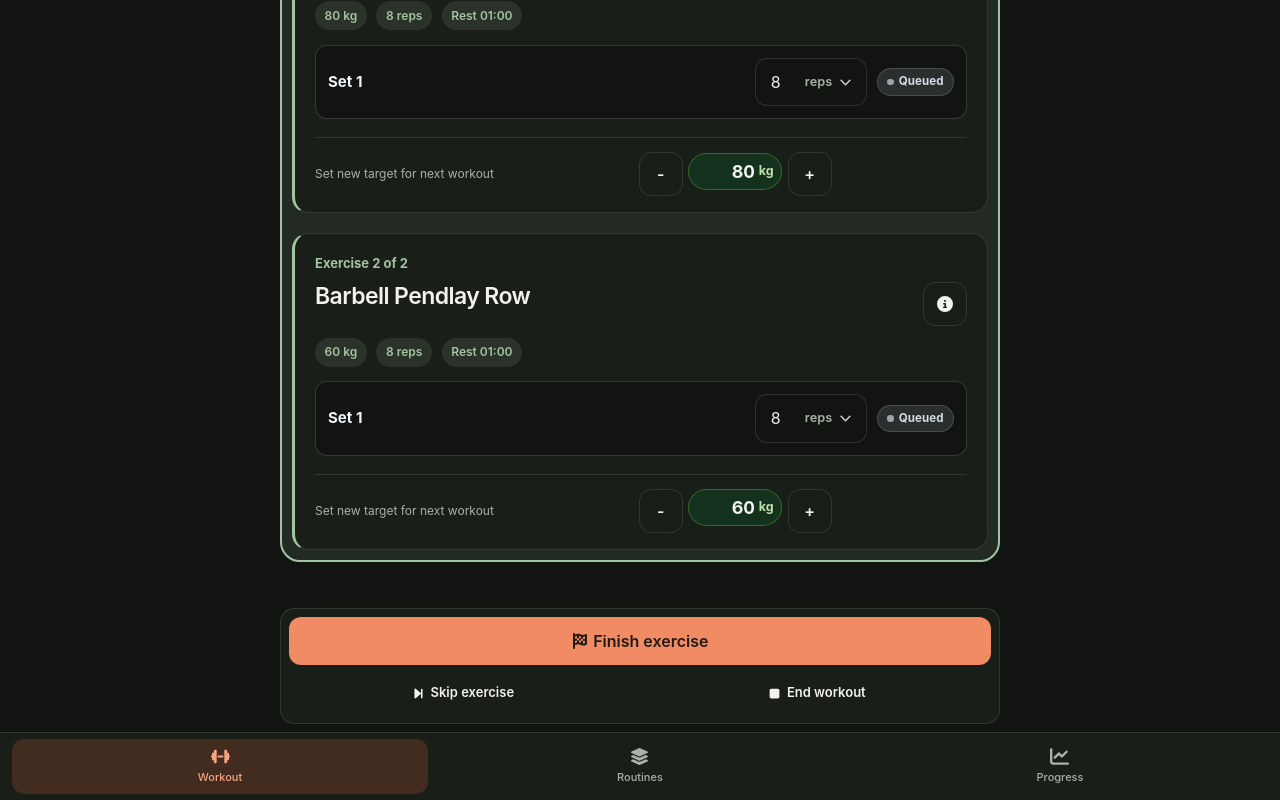
Test: App UI flows › moves to the exercise after a superset when both superset exercises are done
(page scrolled)
Click the button with aria-label "Toggle set 1 for Pendlay Row" at (916, 418), box [315,381,967,456]
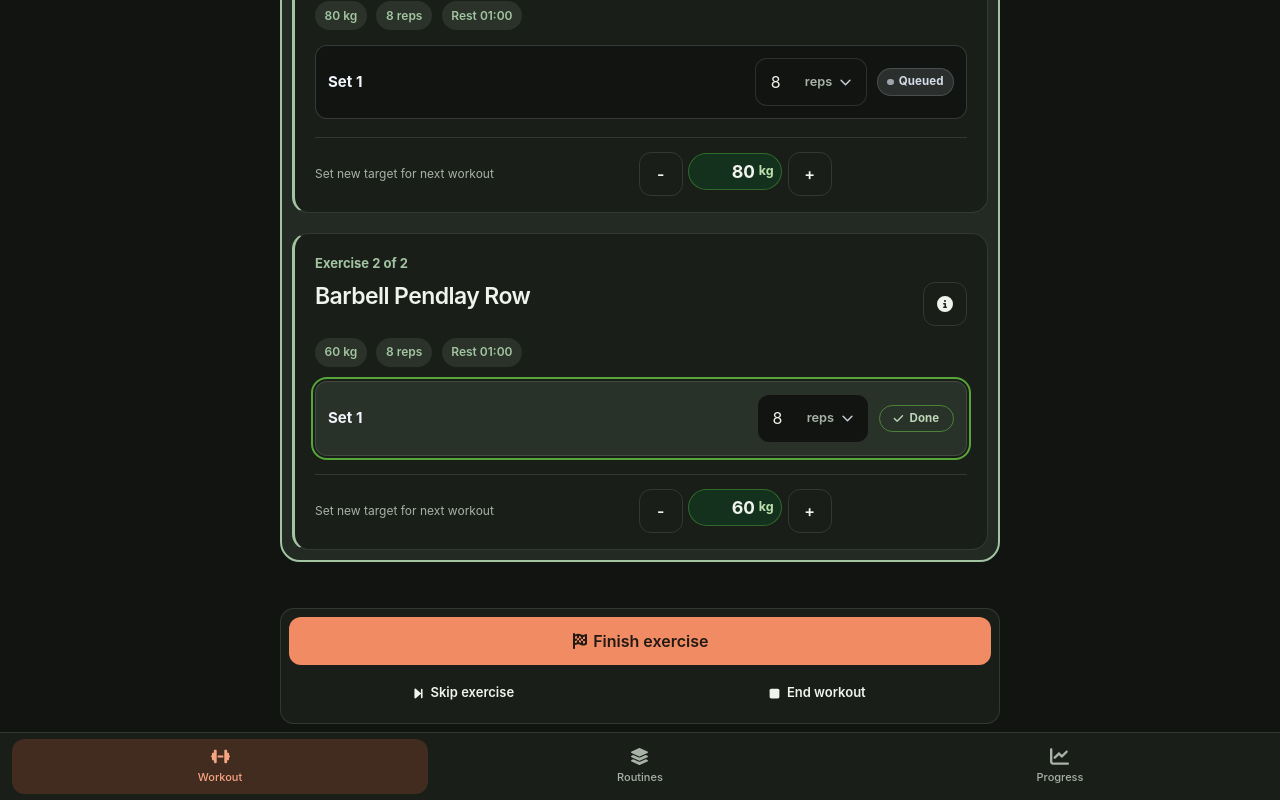
Click the button with aria-label "Toggle set 1 for Bench Press" at (916, 82), box [315,45,967,119]
(page scrolled)
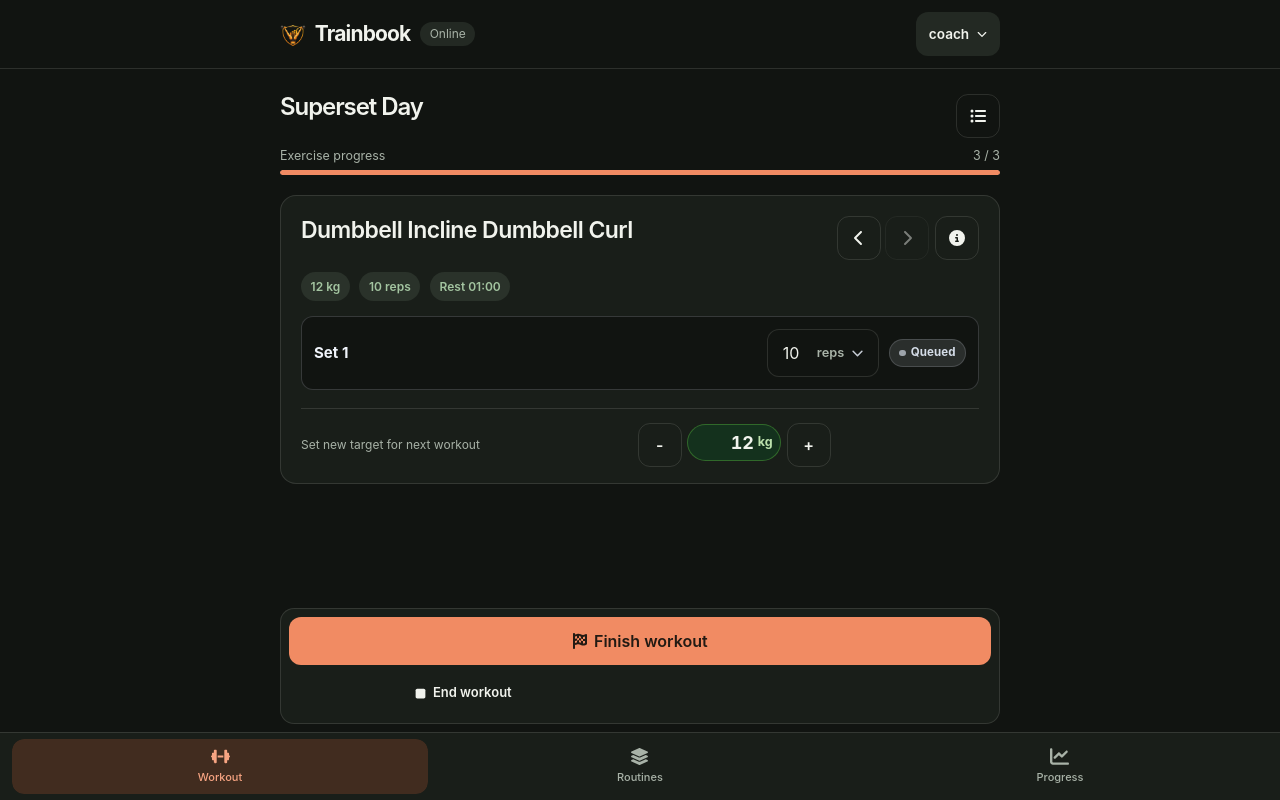
Expected: the text "Dumbbell Incline Dumbbell Curl" is shown, [301,216,633,245]
